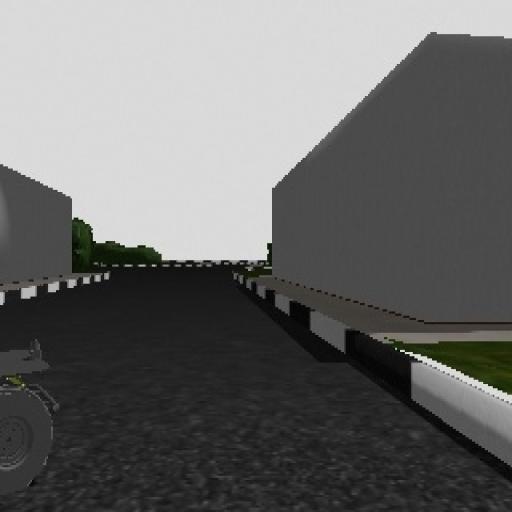huskya200: (0, 322, 70, 509)
